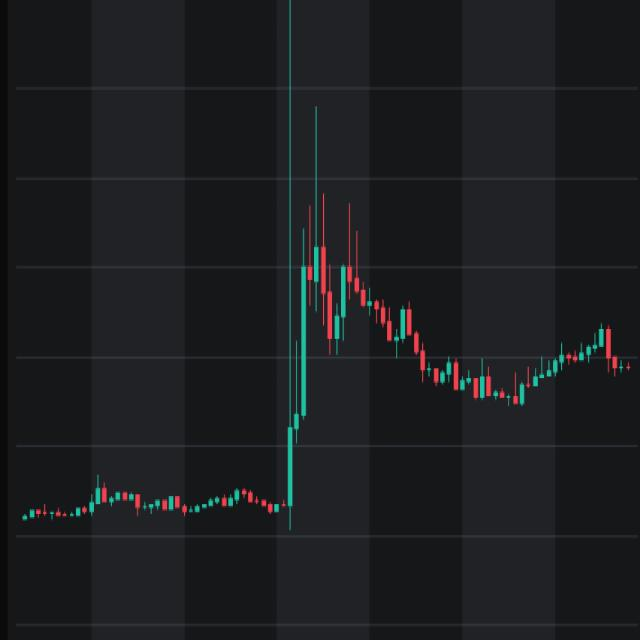Falling-Wedge: (280, 151, 583, 440)
